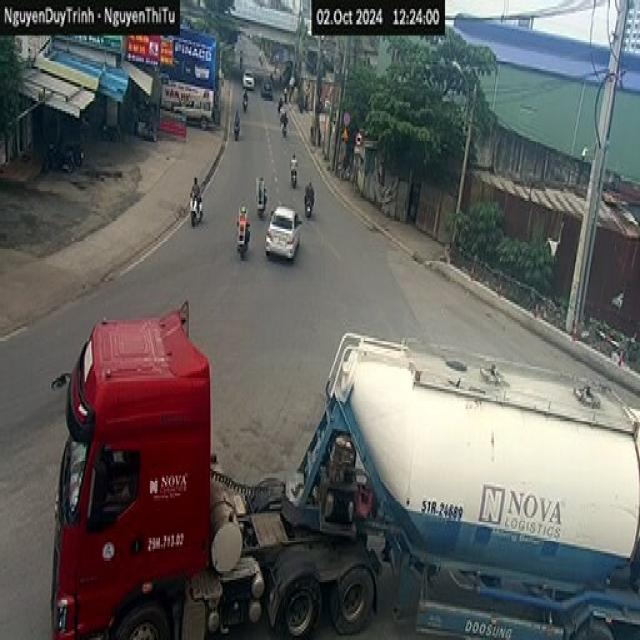car: (265, 204, 301, 260), (241, 69, 254, 89), (260, 78, 272, 98)
container-truck: (48, 298, 638, 636)
motorcycle: (236, 215, 250, 258), (188, 191, 202, 227), (304, 186, 314, 218), (290, 160, 298, 187)
person: (236, 205, 249, 242), (189, 176, 201, 216), (232, 109, 240, 138)
